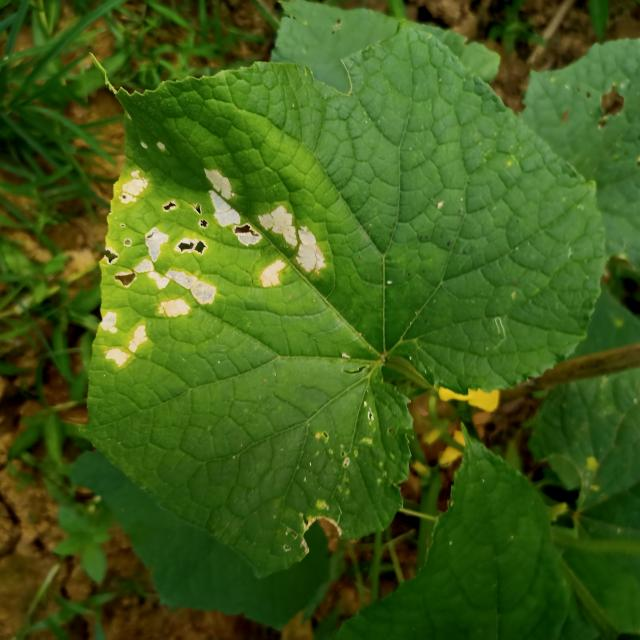disease_cucumber: (90, 124, 338, 372)
